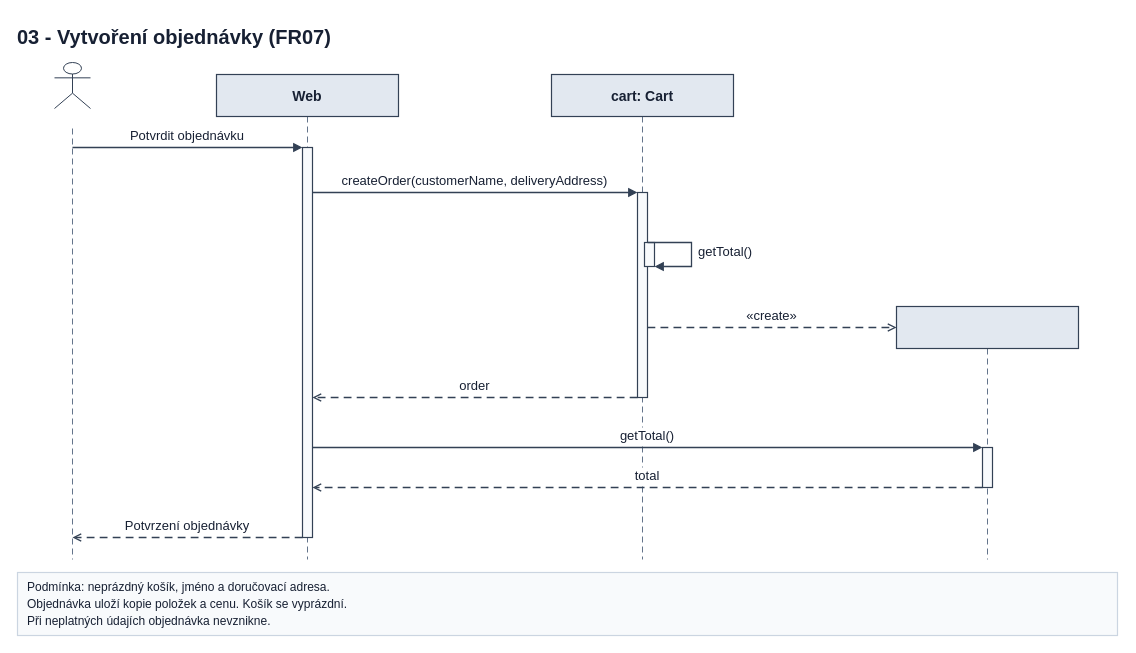
The diagram is 1136 pixels wide and 653 high, and some of its shapes have lost their labels. Each missing label, with the centre of its shape:
"order: Order" belongs at point 987,327.
"Zákazník" belongs at point 72,85.
